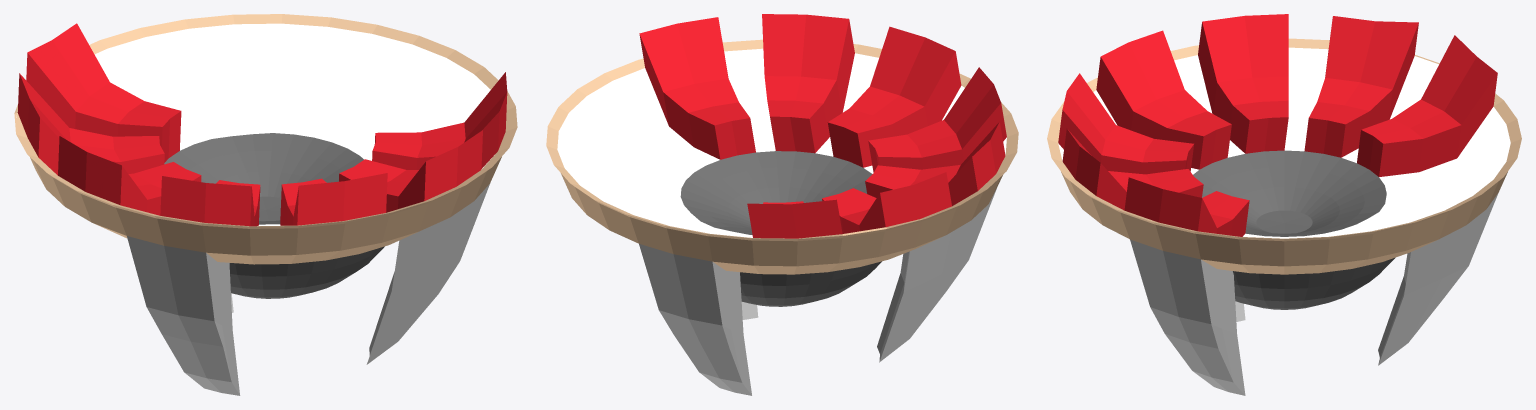
Rendered from sorang.glb.
The picture shows the model from 3 angles, left to right: view 1: azimuth 30°, elevation 25°; view 2: azimuth 150°, elevation 25°; view 3: azimuth 270°, elevation 25°; orthographic projection. The views are drawn at different scales.
Parts seen in each view (by area): view 1: spaceship orange; view 2: spaceship orange; view 3: spaceship orange.
Boxes of the visible parts, x1,y1,x2,y2 form: spaceship orange: (14, 14, 517, 395); spaceship orange: (546, 14, 1018, 395); spaceship orange: (1047, 14, 1521, 395).
Bounding box in the file's own units: 1.34 × 0.7952 × 1.34.
